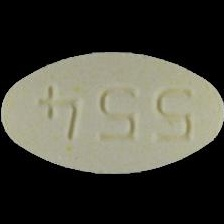62756-554: (0, 0, 224, 224)
